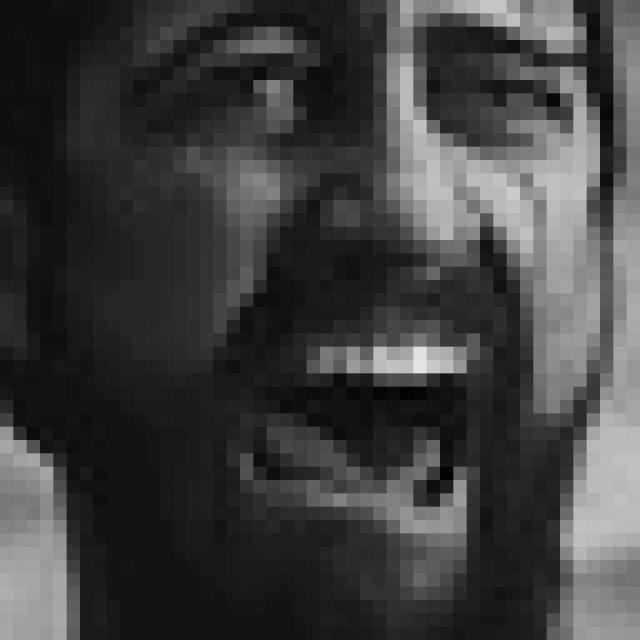angry: (111, 6, 592, 550)
